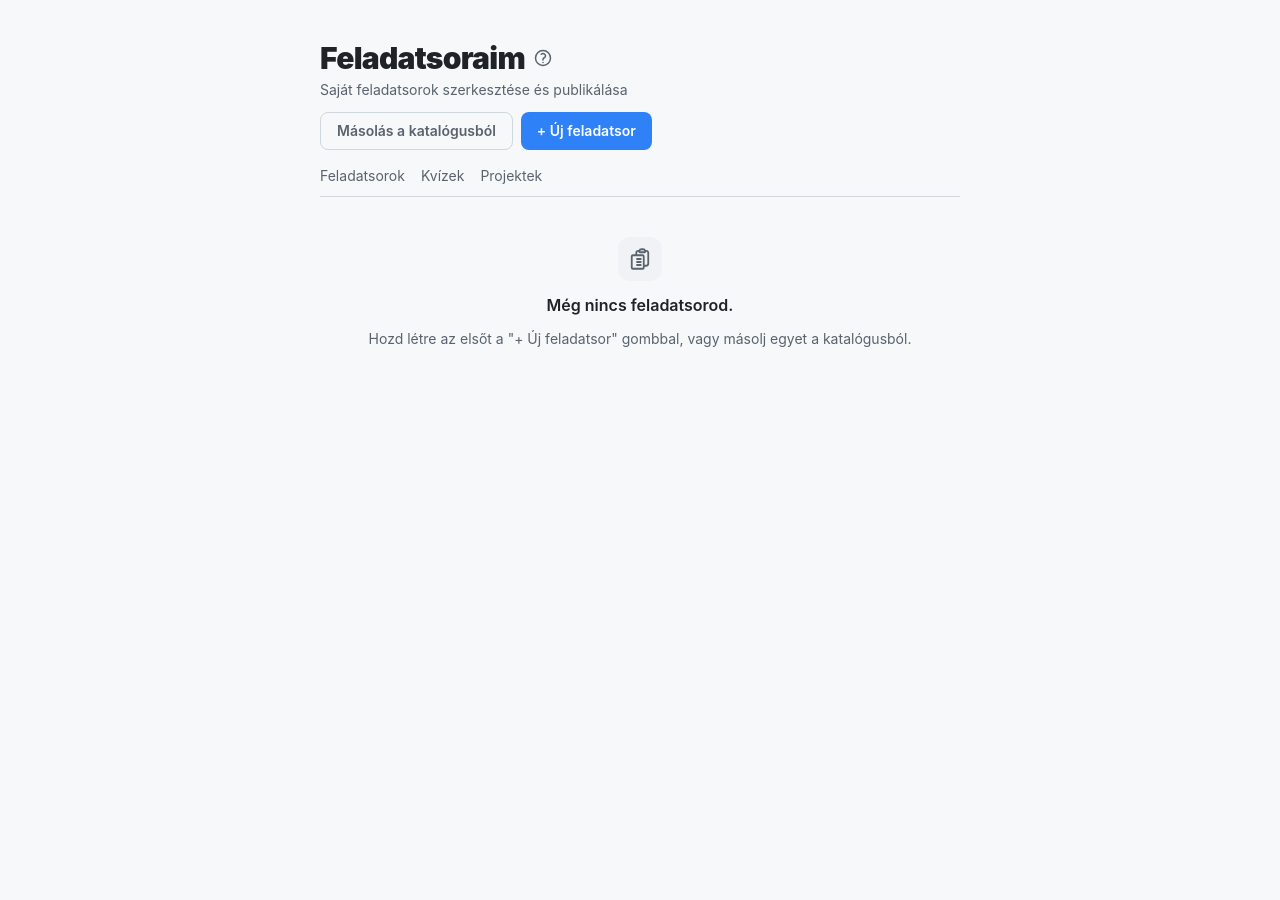
it: FeladatsorokListaComponent › a „Másolás a katalógusból” gomb megnyitja, a bezárás elrejti a katalógust
The width and height of the screenshot is (1280, 900).
Click the button with test id "catalog-open": click(416, 131) top-left (320, 112), bottom-right (513, 150)
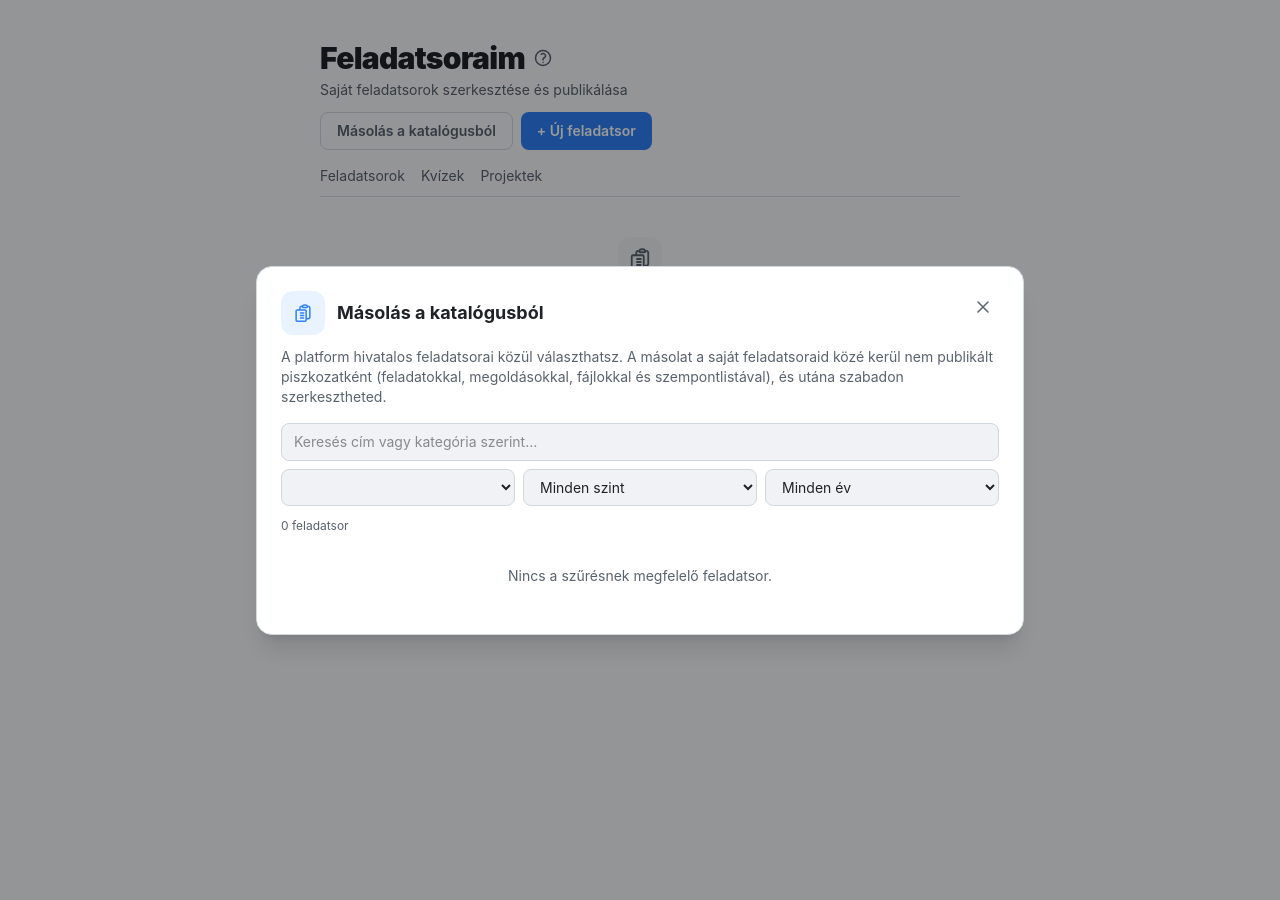
expect the dialog with test id "catalog-dialog" is shown: met, box top-left (256, 266), bottom-right (1024, 634)
Click the button with test id "catalog-close": click(983, 306) top-left (967, 290), bottom-right (999, 322)
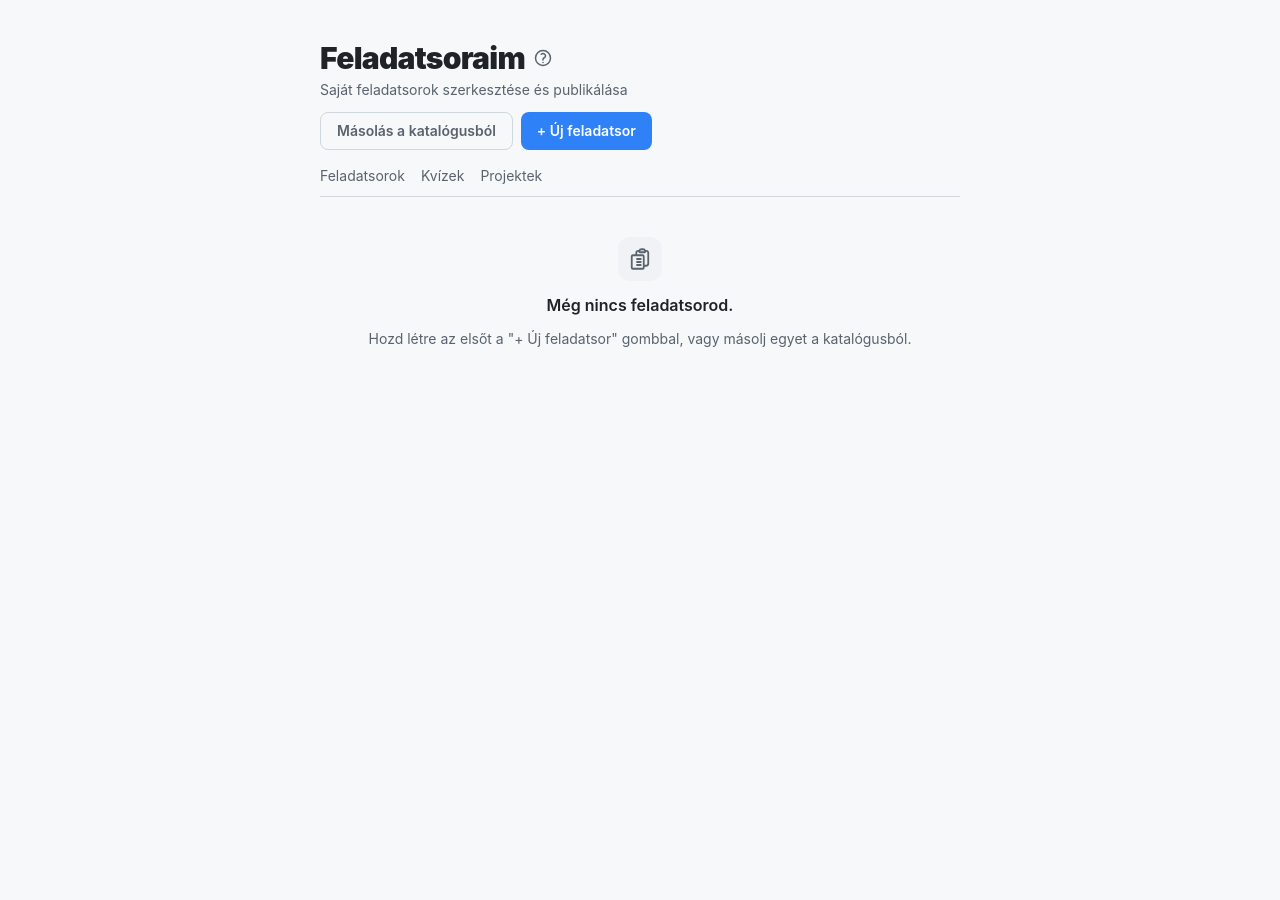
expect the dialog with test id "catalog-dialog" is gone: met
